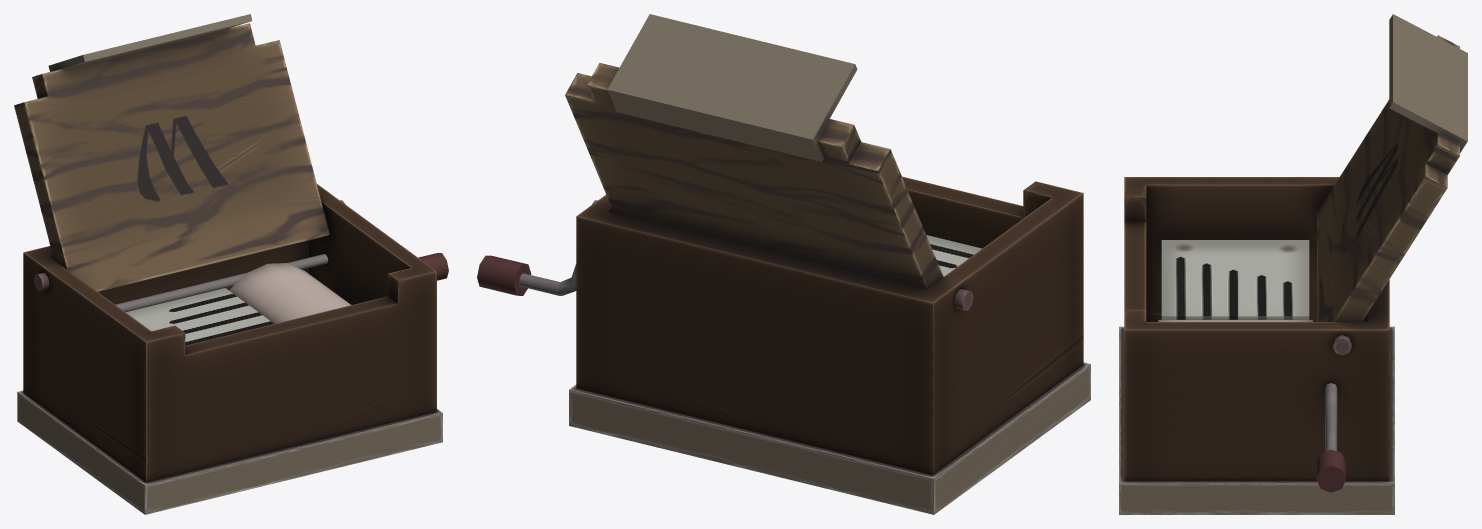
File: music_box.glb
The picture shows the model from 3 angles, left to right: view 1: azimuth 30°, elevation 25°; view 2: azimuth 150°, elevation 25°; view 3: azimuth 270°, elevation 25°; orthographic projection. The views are drawn at different scales.
Parts seen in each view (by area): view 1: Box, Lid, MusicLeaf, Cylinder, Handle; view 2: Box, Lid, Handle, MusicLeaf; view 3: Box, Lid, MusicLeaf, Handle.
Part boxes in pixels (x1,y1,x2,y2): Box: (17,184,442,514); Lid: (14,14,329,291); MusicLeaf: (126,288,274,345); Cylinder: (229,263,351,323); Handle: (115,253,448,312); Box: (569,176,1090,514); Lid: (565,14,943,289); Handle: (477,255,576,295); MusicLeaf: (926,235,981,276); Box: (1119,177,1394,514); Lid: (1317,14,1467,321); MusicLeaf: (1161,240,1309,319); Handle: (1316,383,1346,492).
Size of the model in its own units: 116 by 97.62 by 81.52.
1 material, 1 textured.
